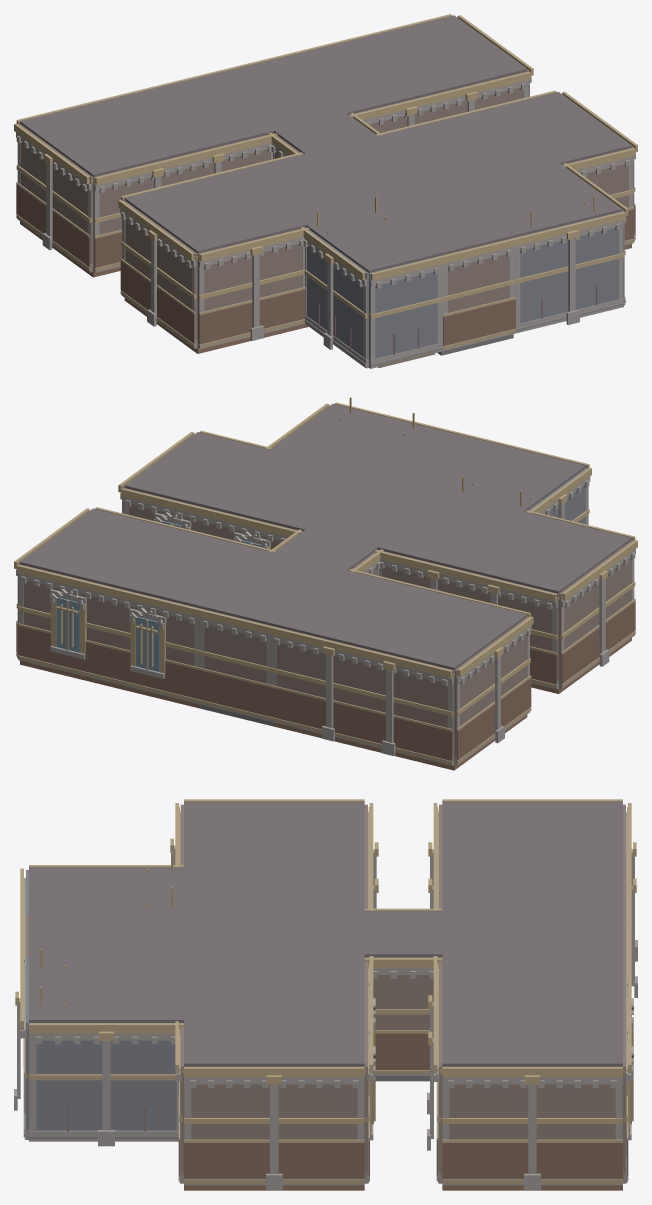
The model's file is floor_02.glb.
The picture shows the model from 3 angles, top to bottom: view 1: azimuth 30°, elevation 25°; view 2: azimuth 150°, elevation 25°; view 3: azimuth 270°, elevation 25°; orthographic projection. The views are drawn at different scales.
Visible parts, largest first — view 1: fe-f2-hall-ceiling, fe-f2-room1-ceiling, fe-f2-room2-ceiling, fe-f2-room3-ceiling, fe-f2-room4-ceiling, fe-f2-spiral-ceiling, fe-f2-spiral-top-end, fe-f2-regular-ceiling, fe-f2-regular-top-end, fe-f2-room3-top-end, fe-f2-regular-left-end, fe-f2-room3-top-finish-end-lower (+34 smaller); view 2: fe-f2-hall-ceiling, fe-f2-room1-ceiling, fe-f2-room3-ceiling, fe-f2-room2-ceiling, fe-f2-room4-ceiling, fe-f2-room1-bottom-end, fe-f2-spiral-ceiling, fe-f2-room1-bottom-finish-end-lower, fe-f2-regular-ceiling, fe-f2-room3-left-end, fe-f2-room1-left-end, fe-f2-room3-bottom-end (+35 smaller); view 3: fe-f2-hall-ceiling, fe-f2-room4-ceiling, fe-f2-room2-ceiling, fe-f2-room3-ceiling, fe-f2-room1-ceiling, fe-f2-spiral-right-end, fe-f2-spiral-ceiling, fe-f2-room2-right-end, fe-f2-room4-right-end, fe-f2-regular-ceiling, fe-f2-room2-right-finish-end-lower, fe-f2-room4-right-finish-end-lower (+29 smaller).
Part boxes in pixels (x1,y1,x2,y2): fe-f2-hall-ceiling: [201, 59, 513, 255]; fe-f2-room1-ceiling: [20, 77, 273, 177]; fe-f2-room2-ceiling: [273, 15, 527, 114]; fe-f2-room3-ceiling: [124, 153, 378, 253]; fe-f2-room4-ceiling: [378, 92, 631, 189]; fe-f2-spiral-ceiling: [451, 163, 622, 237]; fe-f2-spiral-top-end: [514, 211, 623, 323]; fe-f2-regular-ceiling: [306, 207, 441, 272]; fe-f2-regular-top-end: [369, 255, 441, 368]; fe-f2-room3-top-end: [197, 227, 305, 348]; fe-f2-regular-left-end: [305, 227, 368, 368]; fe-f2-room3-top-finish-end-lower: [199, 289, 305, 344]; fe-f2-hall-ceiling: [201, 430, 512, 625]; fe-f2-room1-ceiling: [273, 570, 527, 670]; fe-f2-room3-ceiling: [378, 494, 631, 593]; fe-f2-room2-ceiling: [20, 508, 273, 608]; fe-f2-room4-ceiling: [124, 432, 378, 531]; fe-f2-room1-bottom-end: [273, 626, 454, 764]; fe-f2-spiral-ceiling: [270, 404, 440, 475]; fe-f2-room1-bottom-finish-end-lower: [271, 688, 452, 760]; fe-f2-regular-ceiling: [451, 448, 585, 511]; fe-f2-room3-left-end: [558, 540, 633, 688]; fe-f2-room1-left-end: [454, 617, 528, 765]; fe-f2-room3-bottom-end: [381, 551, 558, 689]; fe-f2-hall-ceiling: [29, 910, 622, 957]; fe-f2-room4-ceiling: [184, 954, 364, 1066]; fe-f2-room2-ceiling: [442, 954, 622, 1066]; fe-f2-room3-ceiling: [184, 801, 364, 910]; fe-f2-room1-ceiling: [442, 801, 622, 910]; fe-f2-spiral-right-end: [29, 1023, 183, 1130]; fe-f2-spiral-ceiling: [29, 954, 183, 1022]; fe-f2-room2-right-end: [442, 1066, 622, 1139]; fe-f2-room4-right-end: [184, 1066, 364, 1139]; fe-f2-regular-ceiling: [29, 867, 183, 910]; fe-f2-room2-right-finish-end-lower: [442, 1143, 622, 1178]; fe-f2-room4-right-finish-end-lower: [184, 1143, 364, 1178].
Bounding box in the file's own units: 15.34 × 3.79 × 14.73.
